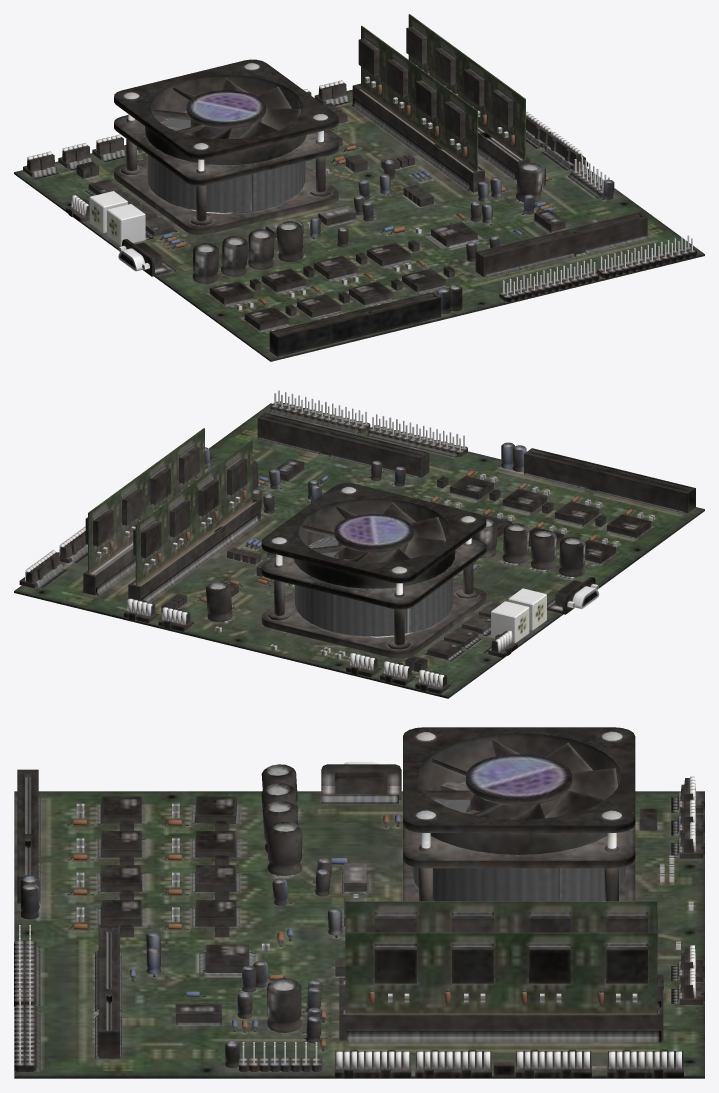
The model's file is circuit_board.gltf.
3 views of the same model, one above another, from view 1: azimuth 30°, elevation 25°; view 2: azimuth 150°, elevation 25°; view 3: azimuth 270°, elevation 25° (orthographic). The views are drawn at different scales.
Visible parts, largest first — view 1: circuit_board; view 2: circuit_board; view 3: circuit_board.
Boxes of the visible parts, x1,y1,x2,y2 form: circuit_board: [14, 14, 704, 361]; circuit_board: [14, 390, 704, 698]; circuit_board: [14, 727, 704, 1078].
Bounding box in the file's own units: 0.4035 × 0.0783 × 0.3974.
Materials: 2 (2 with a texture image).
